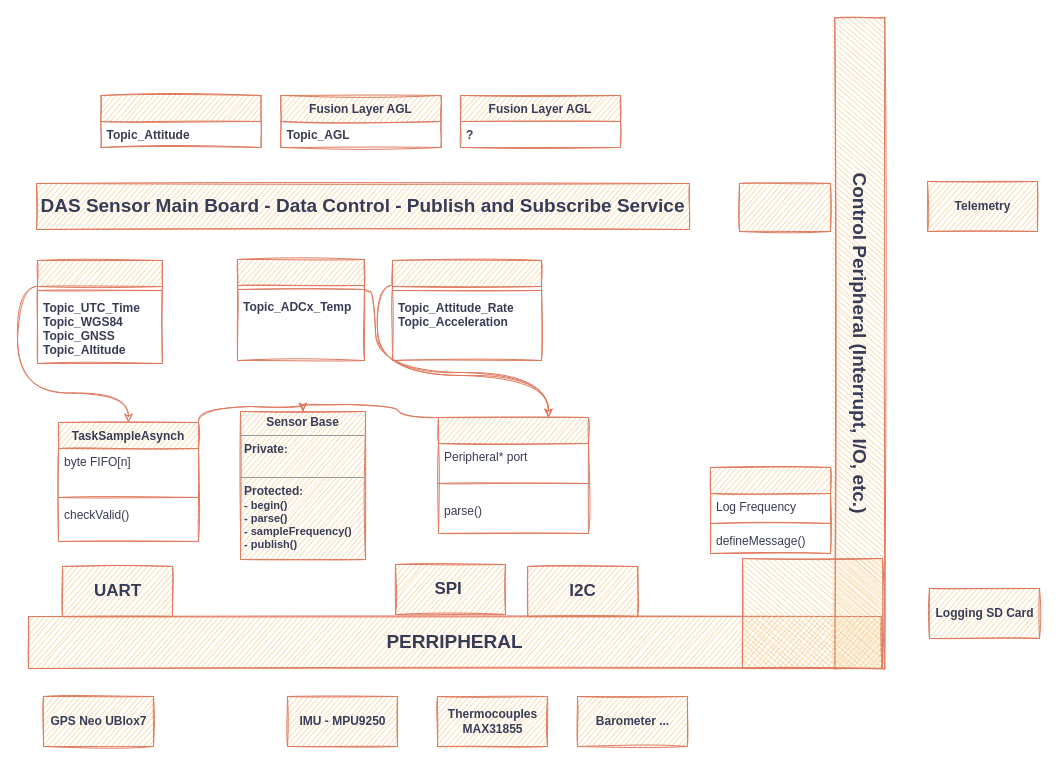
Some shapes in this 1058 by 764 pixel diagram are drawn without their labels. Each missing label, with the box of its shape:
Datalogging / External Communication UART, SPI, I2C, ...: (742, 558, 882, 668)
Fusion Layer IMU: (100, 94, 261, 148)
TaskLogging: (710, 466, 830, 554)
TaskSampleGPS: (36, 260, 162, 364)
TaskSampleInertial: (392, 260, 542, 360)
TaskSampleSynch: (438, 416, 588, 534)
TaskSampleThermo: (236, 258, 364, 360)
UART ?: (738, 182, 830, 232)
